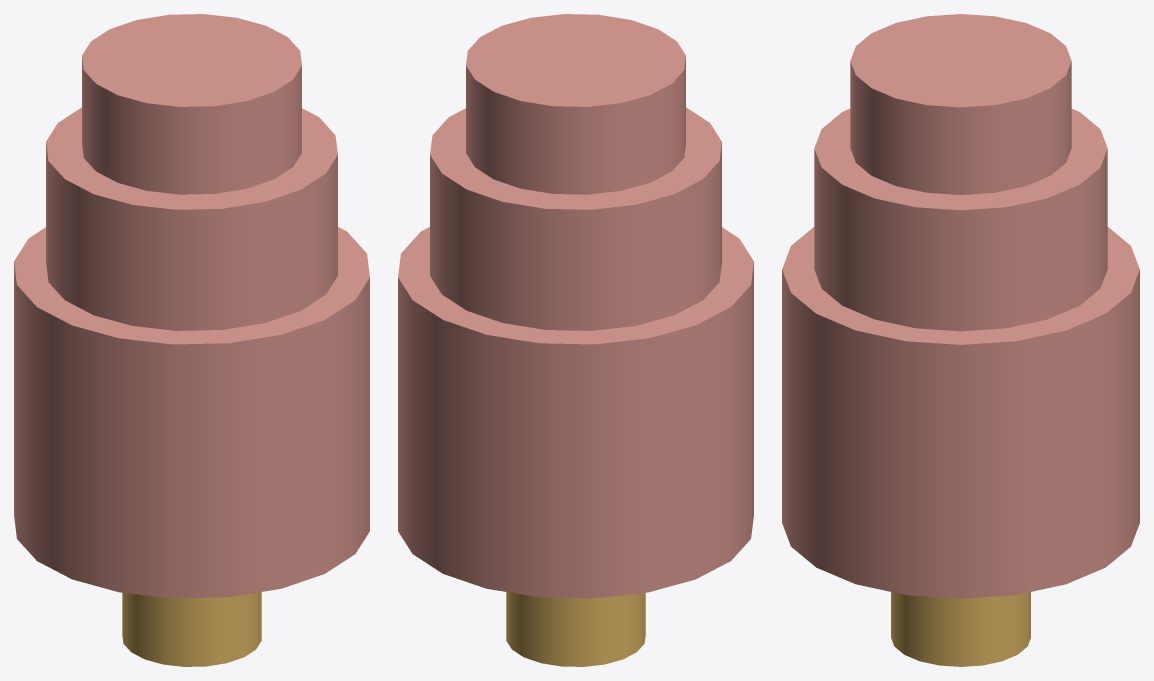
File: cilindros_rosa.fbx
3 views of the same model, side by side, from view 1: azimuth 30°, elevation 25°; view 2: azimuth 150°, elevation 25°; view 3: azimuth 270°, elevation 25° (orthographic).
Visible parts, largest first — view 1: pCylinder1, pCylinder2, pCylinder3, arvore5; view 2: pCylinder1, pCylinder2, pCylinder3, arvore5; view 3: pCylinder1, pCylinder2, pCylinder3, arvore5.
Boxes of the visible parts, bbox=[...] form: pCylinder1: bbox=[14, 227, 369, 598]; pCylinder2: bbox=[46, 107, 337, 330]; pCylinder3: bbox=[82, 14, 301, 194]; arvore5: bbox=[122, 592, 261, 666]; pCylinder1: bbox=[398, 227, 753, 598]; pCylinder2: bbox=[430, 107, 721, 330]; pCylinder3: bbox=[466, 14, 685, 194]; arvore5: bbox=[506, 592, 645, 666]; pCylinder1: bbox=[782, 227, 1139, 598]; pCylinder2: bbox=[814, 109, 1107, 331]; pCylinder3: bbox=[850, 14, 1071, 194]; arvore5: bbox=[891, 592, 1030, 666].
Size of the model in its own units: 1.72 by 3.06 by 1.72.
